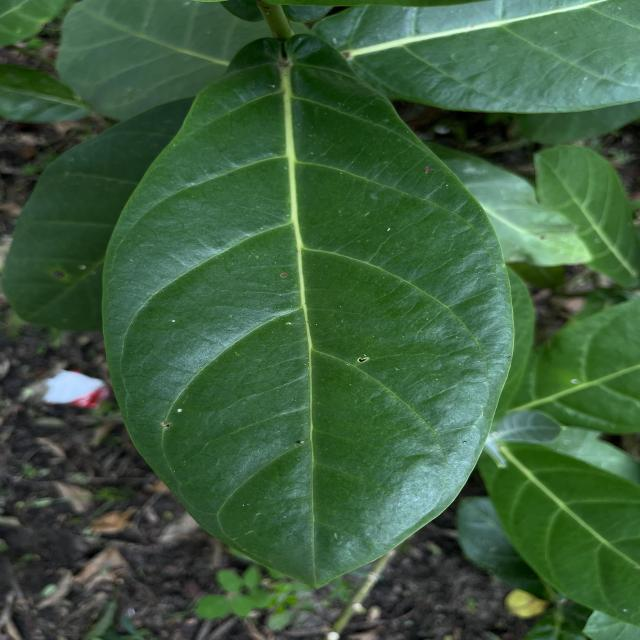Calotropis gigantea: (89, 27, 519, 598), (490, 446, 640, 630)
